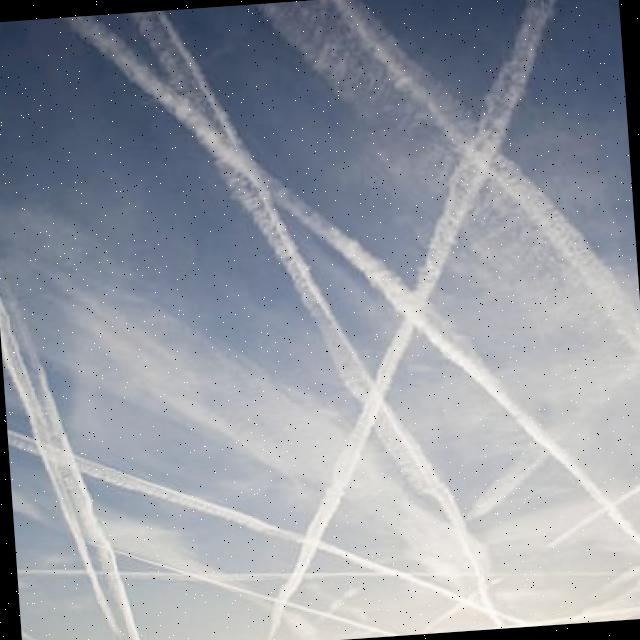Ct: (1, 1, 640, 529)
